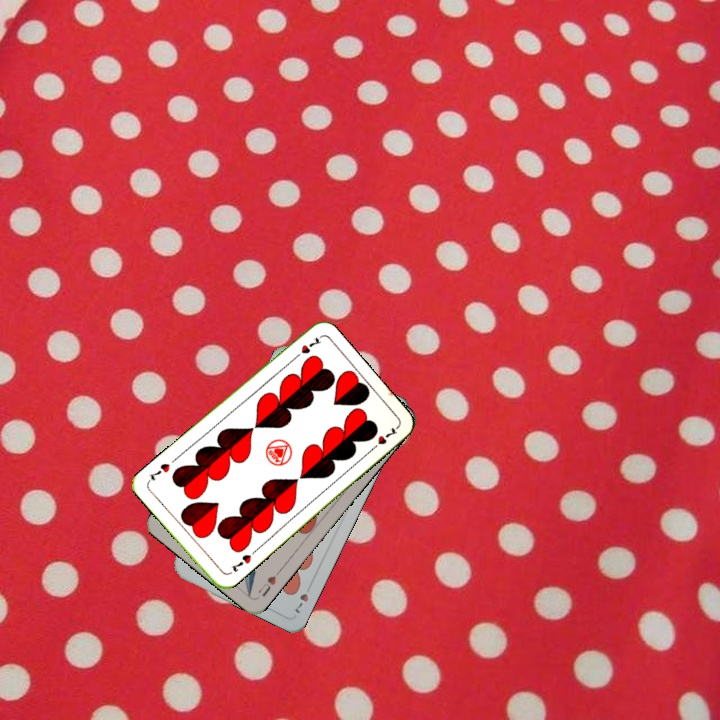H7: (289, 333, 324, 363), (291, 579, 314, 616), (227, 550, 254, 575)
HU: (254, 566, 283, 599)
